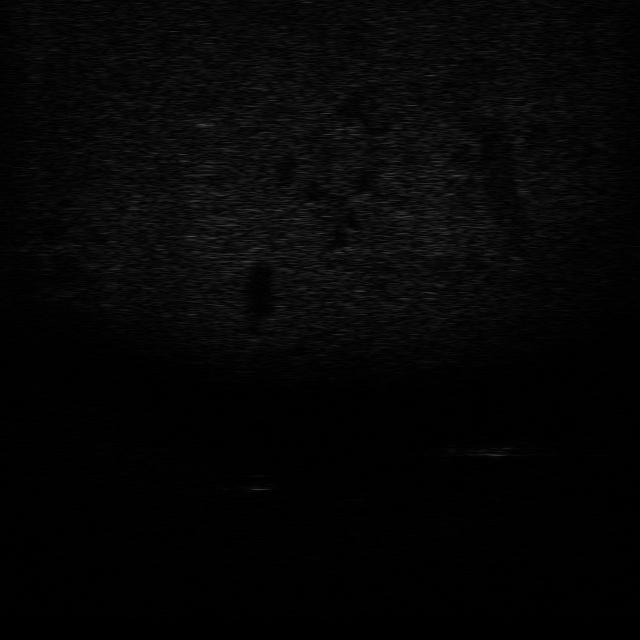ball: (238, 467, 278, 493)
human body: (428, 434, 538, 464)
